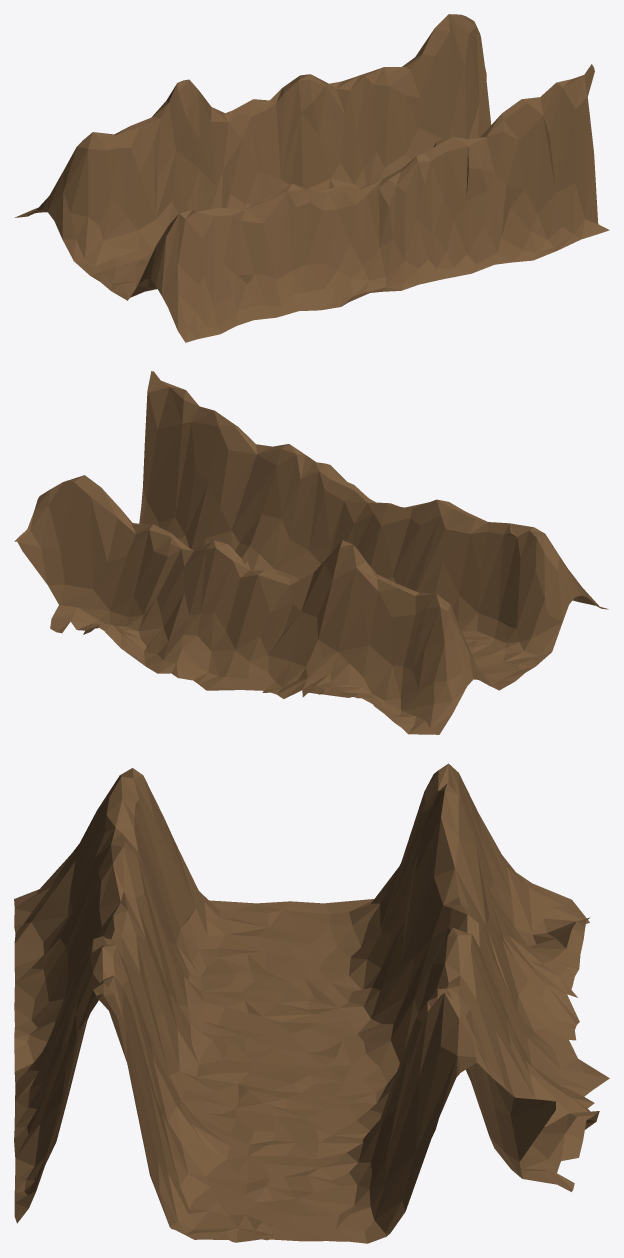
File: river.fbx
3 renders of one model, top to bottom at view 1: azimuth 30°, elevation 25°; view 2: azimuth 150°, elevation 25°; view 3: azimuth 270°, elevation 25°, orthographic. The views are drawn at different scales.
Parts seen in each view (by area): view 1: LVL1CH1.001; view 2: LVL1CH1.001; view 3: LVL1CH1.001.
Part boxes in pixels (x1,y1,x2,y2): LVL1CH1.001: (14, 14, 609, 342); LVL1CH1.001: (14, 371, 608, 734); LVL1CH1.001: (14, 763, 609, 1243).
Bounding box in the file's own units: 12954 × 4490 × 9464.
